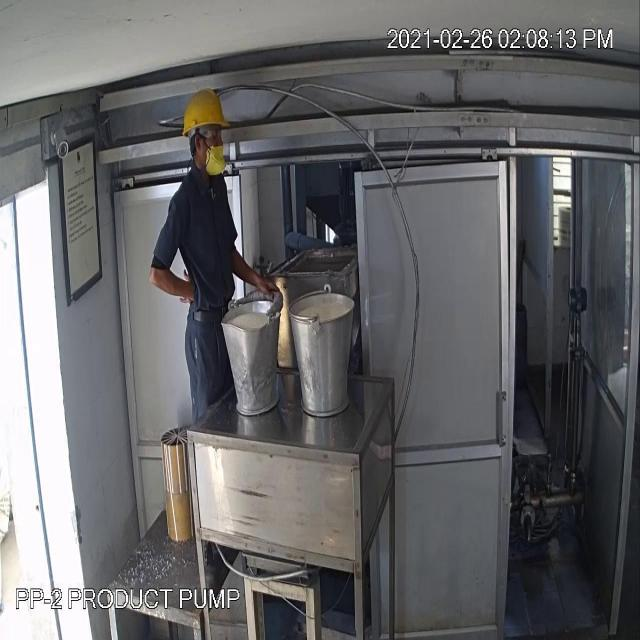hard-hat: (177, 92, 235, 136)
person: (150, 85, 254, 527)
